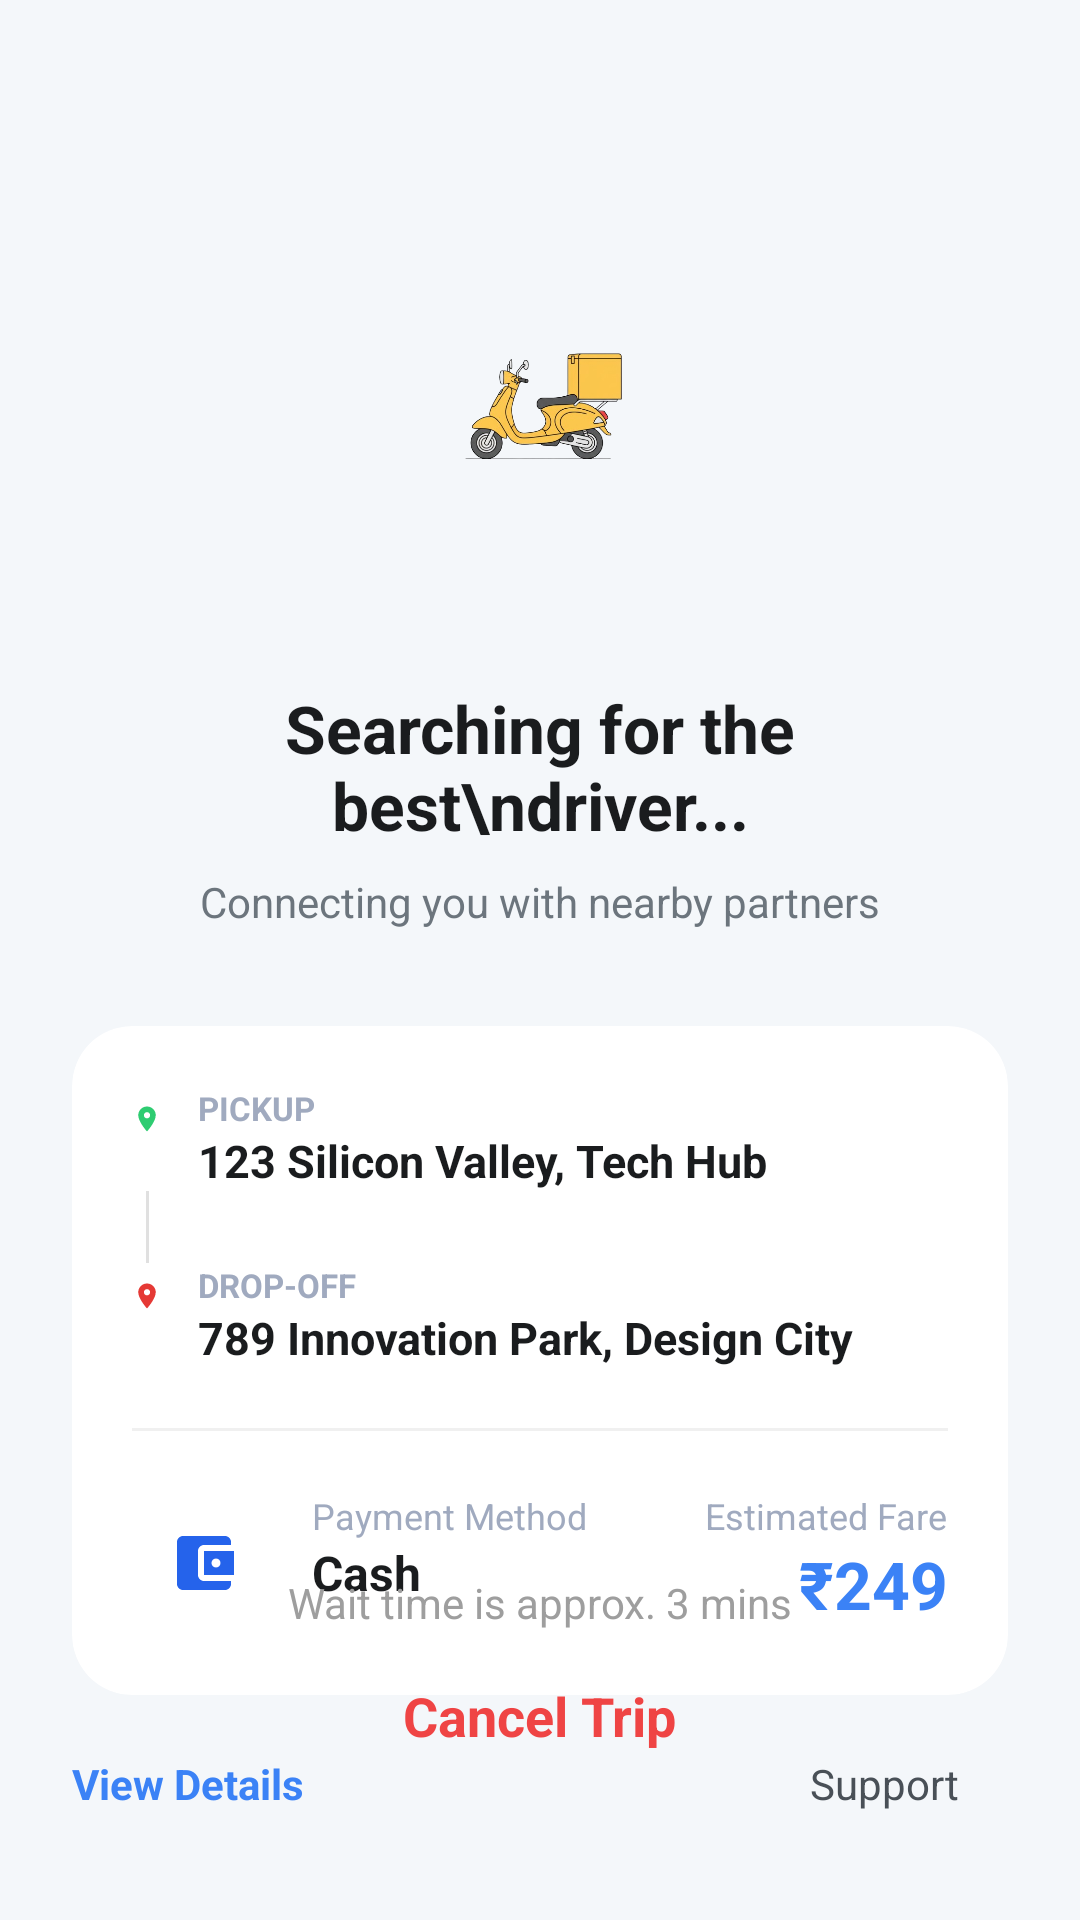

Icon bounding boxes for this 1080 × 1920 phone screenshot, format region(x1, y1, x2, y2):
illustration two wheeler: region(465, 353, 622, 459)
location on: region(138, 1106, 156, 1131), region(138, 1283, 156, 1308)
wallet: region(177, 1536, 234, 1590)
